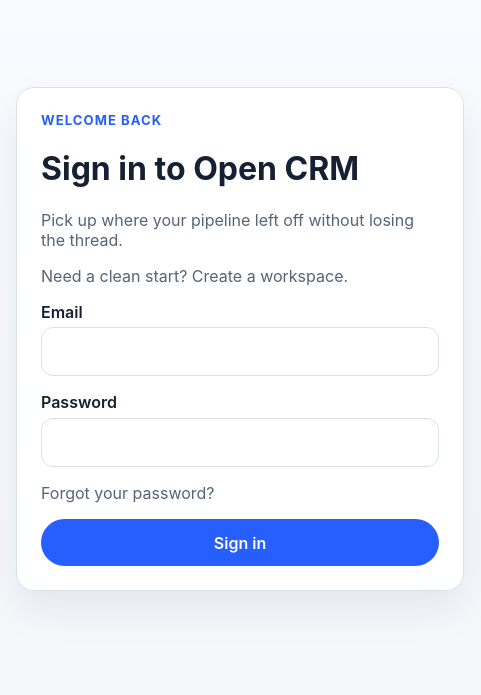
Test: unverified login recovery › offers an enumeration-safe verification resend after a correct unverified login
This screenshot has width=481, height=695.
Expected: the heading "Sign in to Open CRM" is shown, [41, 149, 359, 188]
Type "owner@northstar.test" into the field labelled "Email". click: (240, 352)
box: [41, 327, 439, 376]
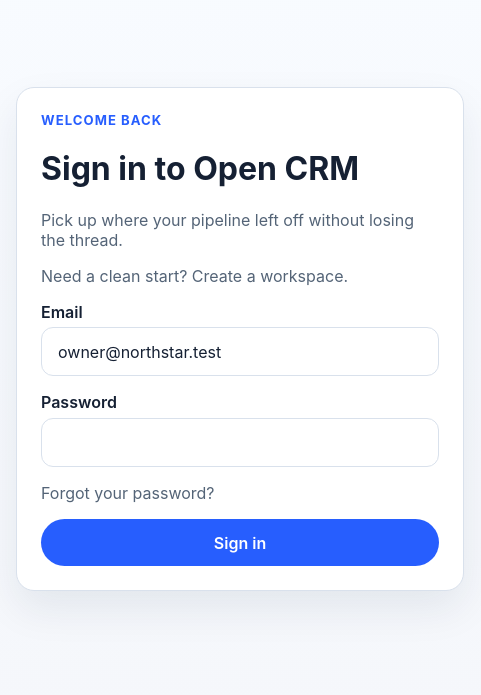
Type "correct-unverified-password" into the password field labelled "Password". click: (240, 442)
box: [41, 418, 439, 467]
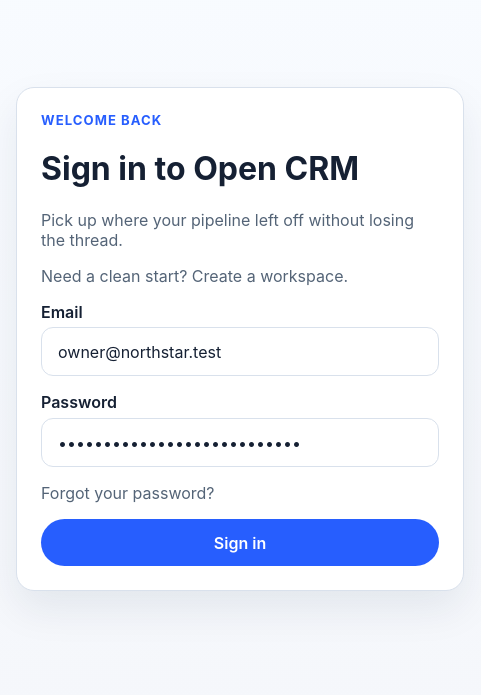
Click the button "Sign in". click: click(240, 543)
box: [41, 519, 439, 566]
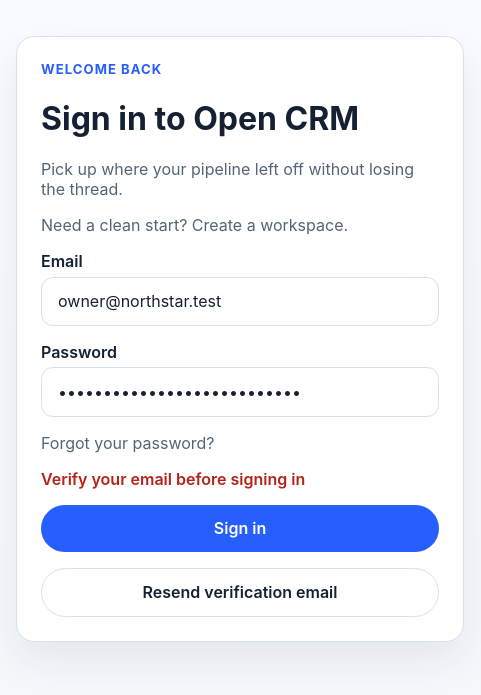
Now the text "Verify your email before signing in" is shown, box [41, 468, 305, 488]
Click the button "Resend verification email". click: click(240, 592)
box: [41, 568, 439, 617]
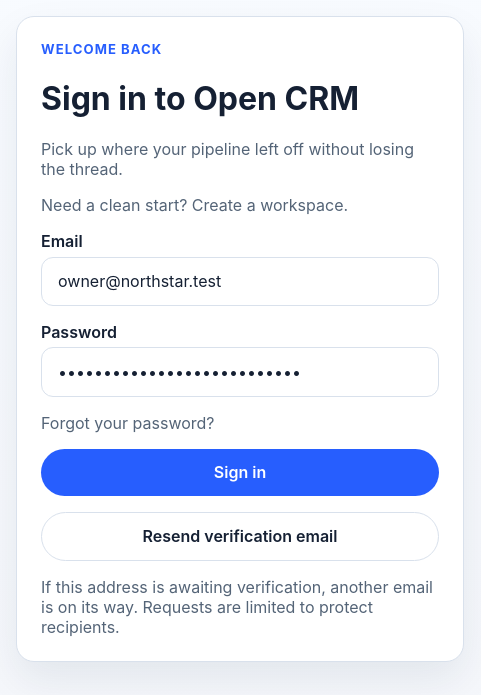
Now the text "If this address is awaiting verification" is shown, box [41, 577, 433, 637]
